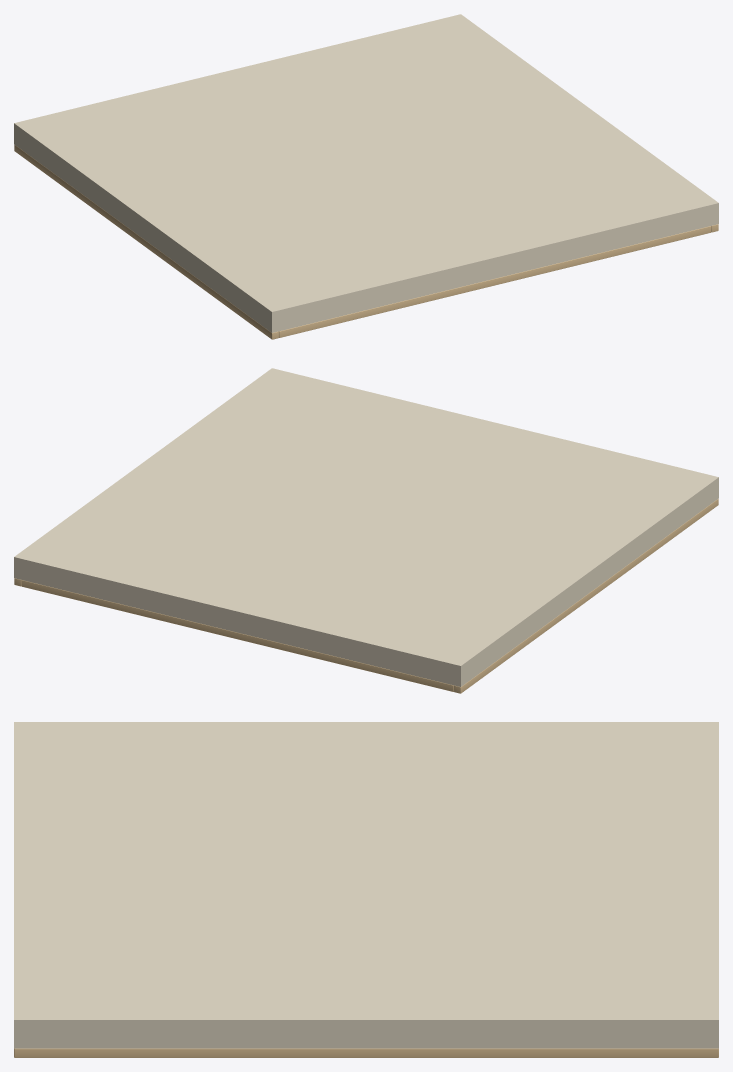
The model's file is ceiling_module.fbx.
3 renders of one model, top to bottom at view 1: azimuth 30°, elevation 25°; view 2: azimuth 150°, elevation 25°; view 3: azimuth 270°, elevation 25°, orthographic. The views are drawn at different scales.
Parts seen in each view (by area): view 1: ceiling_module; view 2: ceiling_module; view 3: ceiling_module.
Part boxes in pixels (x1=…): ceiling_module: x1=14, y1=14, x2=718, y2=339; ceiling_module: x1=14, y1=368, x2=718, y2=693; ceiling_module: x1=14, y1=722, x2=718, y2=1057.
Bounding box in the file's own units: 2 × 0.12 × 2.
